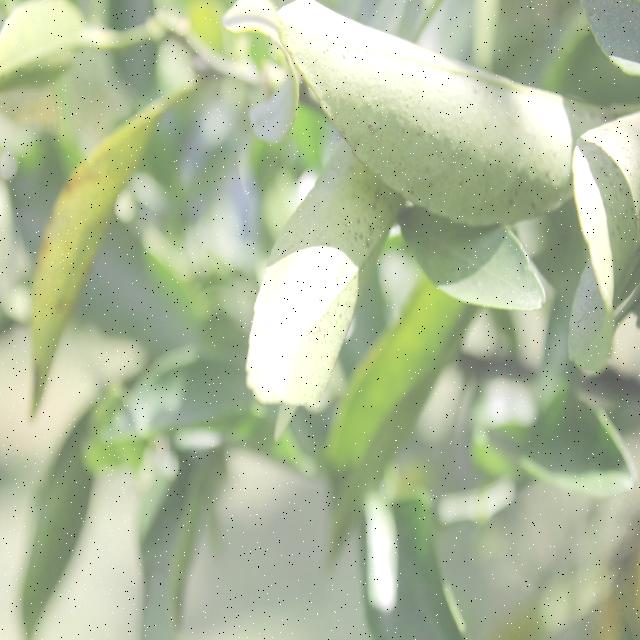melanose: (284, 0, 574, 214), (244, 151, 406, 400), (573, 110, 640, 326)
